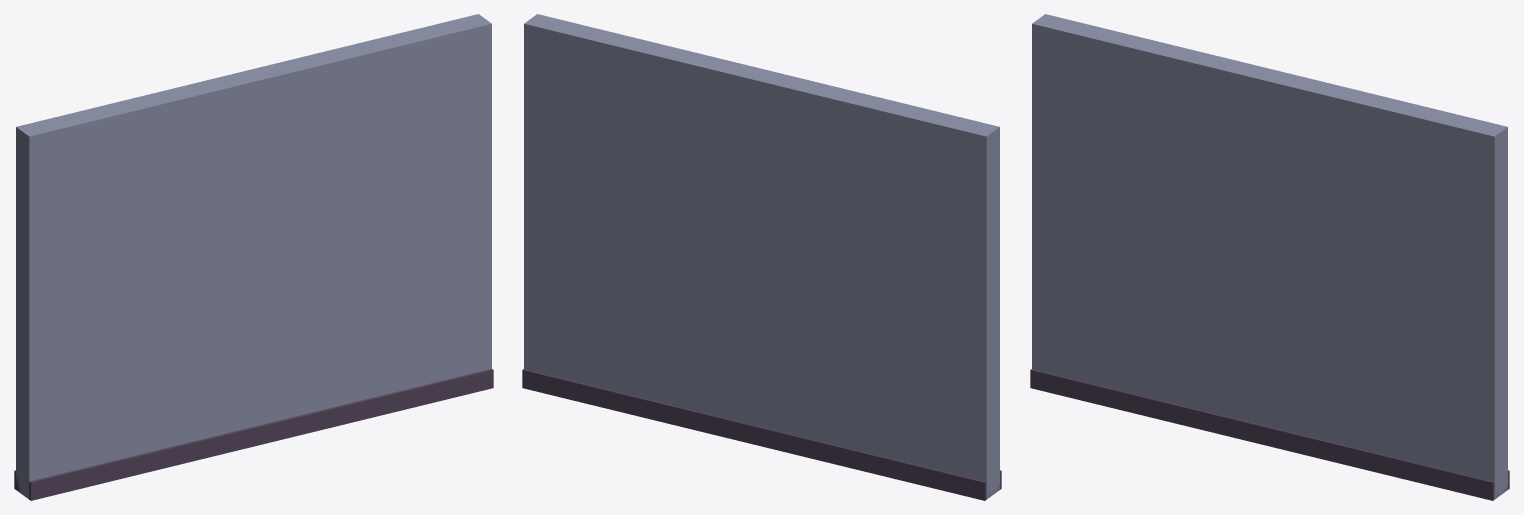
The model's file is gs_wall.gltf.
3 renders of one model, left to right at view 1: azimuth 30°, elevation 25°; view 2: azimuth 150°, elevation 25°; view 3: azimuth 330°, elevation 25°, orthographic.
Visible parts, largest first — view 1: gs_wall; view 2: gs_wall; view 3: gs_wall.
Boxes of the visible parts, x1=… form: gs_wall: x1=14, y1=14, x2=493, y2=500; gs_wall: x1=522, y1=14, x2=1001, y2=500; gs_wall: x1=1030, y1=14, x2=1509, y2=500.
Bounding box in the file's own units: 4 × 3 × 0.25.
